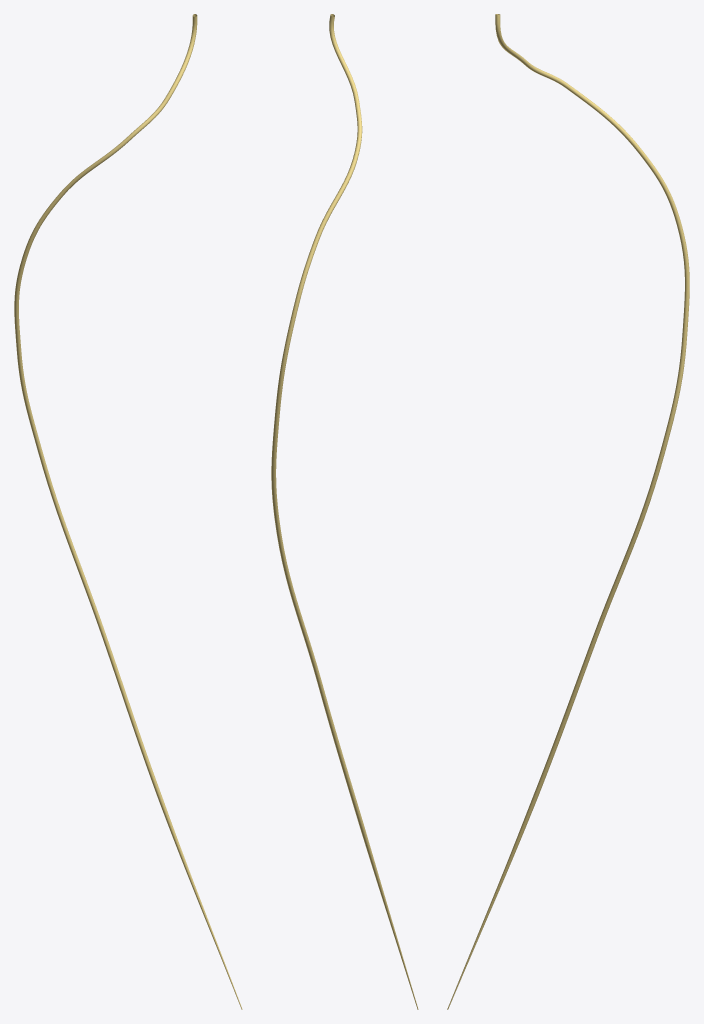
3 views of the same model, side by side, from view 1: azimuth 90°, elevation 25°; view 2: azimuth 150°, elevation 25°; view 3: azimuth 270°, elevation 25° (orthographic). The views are drawn at different scales.
Parts seen in each view (by area): view 1: ZA_6233240033b9102a; view 2: ZA_6233240033b9102a; view 3: ZA_6233240033b9102a.
Boxes of the visible parts, x1,y1,x2,y2 form: ZA_6233240033b9102a: (14, 14, 242, 1009); ZA_6233240033b9102a: (271, 14, 418, 1009); ZA_6233240033b9102a: (447, 14, 689, 1009).
Size of the model in its own units: 0.0158 by 0.2309 by 0.0495.
